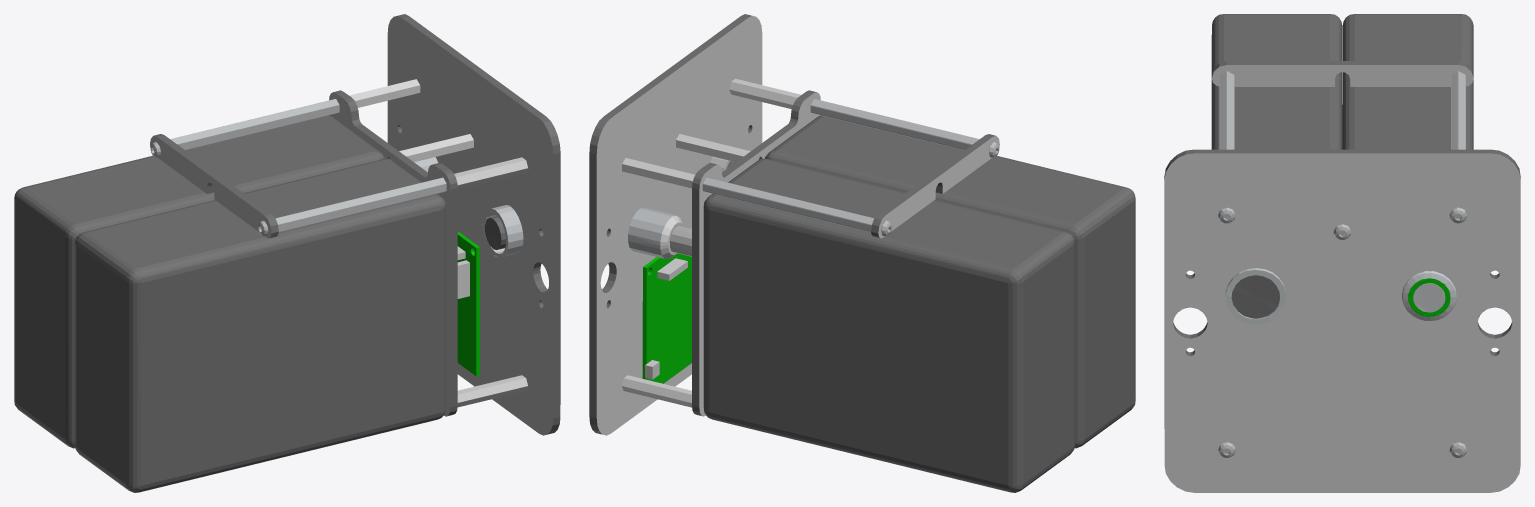
Rendered from battery_block.dae.
3 renders of one model, left to right at view 1: azimuth 30°, elevation 25°; view 2: azimuth 150°, elevation 25°; view 3: azimuth 270°, elevation 25°, orthographic. The views are drawn at different scales.
Parts seen in each view (by area): view 1: batteries, face_plate, long_standoffs, mid_plate, standoffs, cable_holder, linckia, power_socket; view 2: batteries, face_plate, linckia, long_standoffs, mid_plate, standoffs, cable_holder, power_switch; view 3: face_plate, batteries, cable_holder, power_socket, long_standoffs, power_switch, bolts.
Part boxes in pixels (x1,y1,x2,y2): batteries: (14, 115, 445, 492); face_plate: (387, 14, 560, 435); long_standoffs: (170, 99, 446, 232); mid_plate: (329, 90, 457, 416); standoffs: (349, 79, 527, 407); cable_holder: (150, 134, 278, 238); linckia: (457, 231, 479, 376); power_socket: (482, 205, 523, 257); batteries: (703, 115, 1135, 492); face_plate: (589, 14, 762, 435); linckia: (642, 253, 691, 383); long_standoffs: (702, 99, 979, 232); mid_plate: (692, 90, 820, 416); standoffs: (622, 78, 801, 407); cable_holder: (871, 134, 999, 238); power_switch: (628, 207, 691, 259); face_plate: (1164, 149, 1520, 492); batteries: (1211, 14, 1473, 149); cable_holder: (1212, 61, 1473, 86); power_socket: (1225, 268, 1285, 324); long_standoffs: (1219, 71, 1465, 149); power_switch: (1401, 271, 1456, 320); bolts: (1218, 207, 1466, 457).
Bounding box in the file's own units: 0.1679 × 0.1169 × 0.1229.
